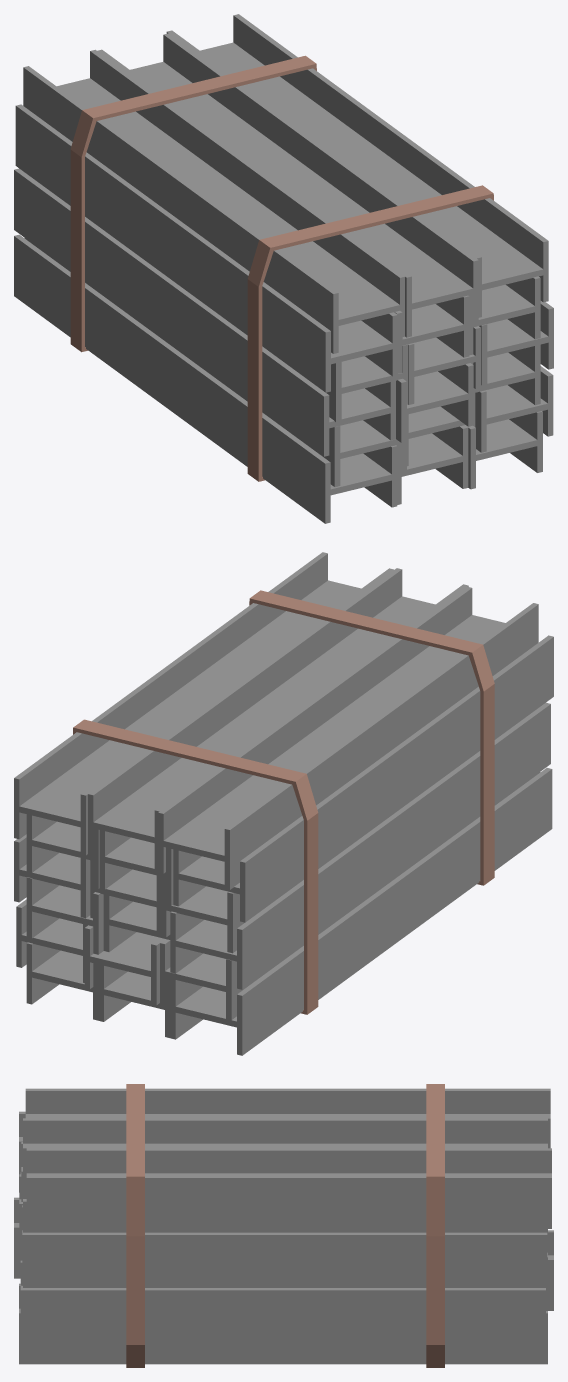
File: steelBundle.obj
The picture shows the model from 3 angles, top to bottom: view 1: azimuth 30°, elevation 25°; view 2: azimuth 150°, elevation 25°; view 3: azimuth 270°, elevation 25°; orthographic projection. The views are drawn at different scales.
Parts seen in each view (by area): view 1: 立方体.002; view 2: 立方体.002; view 3: 立方体.002.
Part boxes in pixels (left/top/right/bottom): 立方体.002: left=14, top=14, right=553, bottom=523; 立方体.002: left=14, top=552, right=553, bottom=1055; 立方体.002: left=14, top=1084, right=553, bottom=1367.
Bounding box in the file's own units: 6.2 × 5.76 × 14.4.
Materials: 1 (1 with a texture image).
